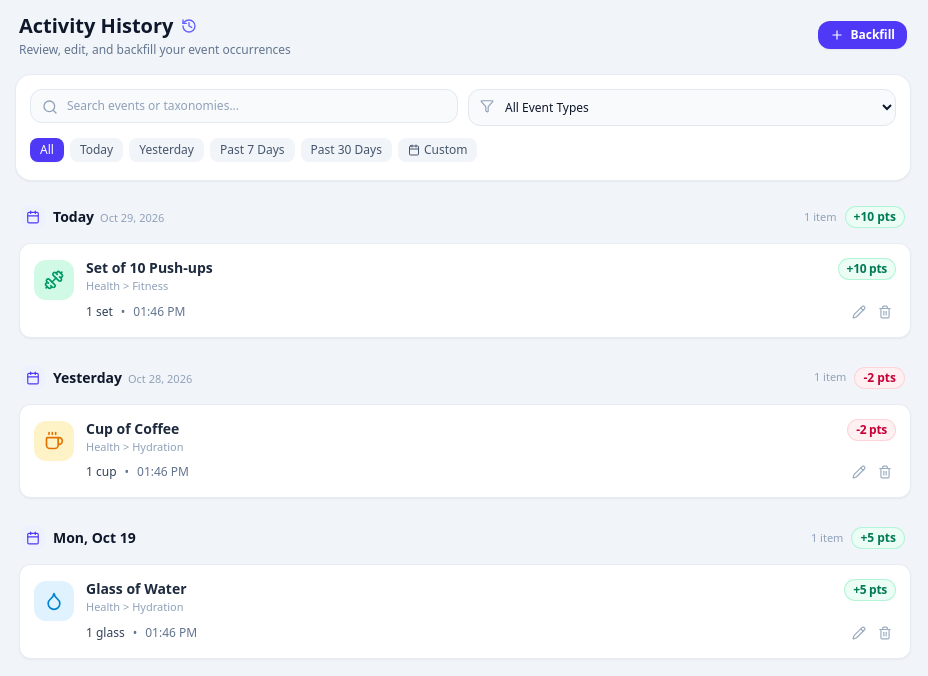
Test: HistoryView › filters occurrences by preset date range (Today, Yesterday, 7 Days, All)
The width and height of the screenshot is (928, 676).
Expected: the number of "HistoryTimelineItem" components is 3, [19,243,911,338]; [19,404,911,498]; [19,564,911,658]
Filter by "today"
Click the button with test id "filter-date-today": (97, 150) [70,138,123,162]
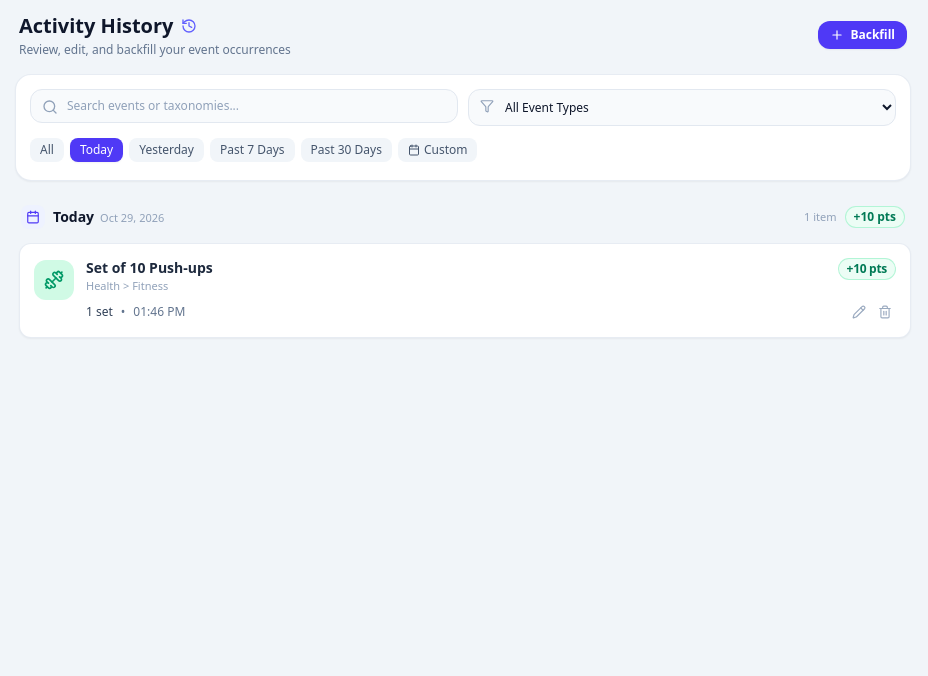
Expected: the number of "HistoryTimelineItem" components is 1, [19,243,911,338]
Result: the text with test id "timeline-container" no longer shows "Cup of Coffee"
Result: the text with test id "timeline-container" no longer shows "Glass of Water"
Filter by "7days"
Click the button with test id "filter-date-7days": (252, 150) [210,138,294,162]
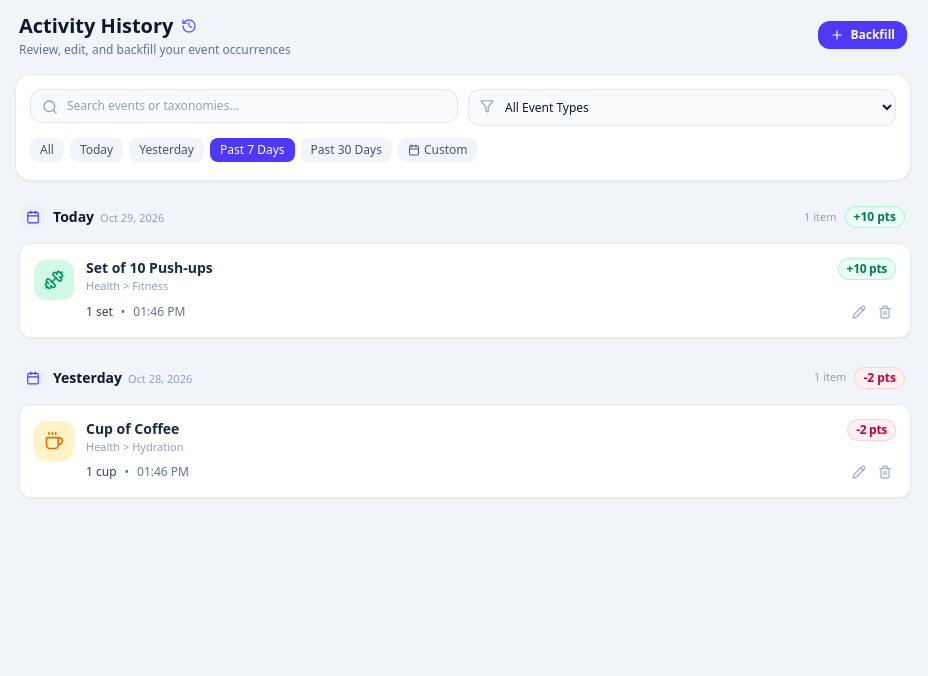
Expected: the number of "HistoryTimelineItem" components is 2, [19,243,911,338]; [19,404,911,498]
Result: the element with test id "timeline-container" shows "Cup of Coffee" at [86,418,179,438]
